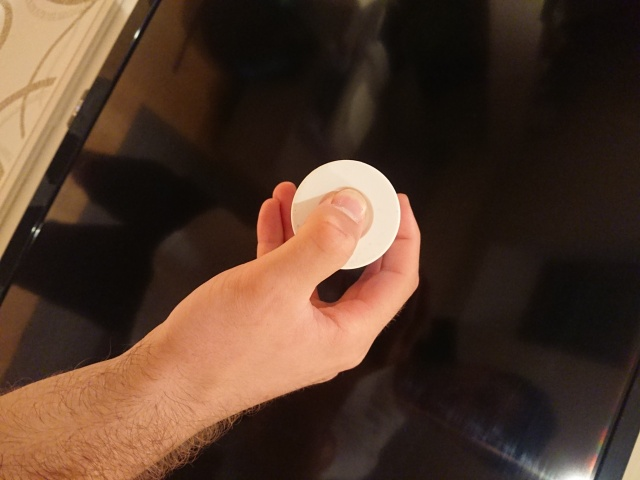Solana Pag Fine Sea Salt 250g: (286, 156, 405, 273)
